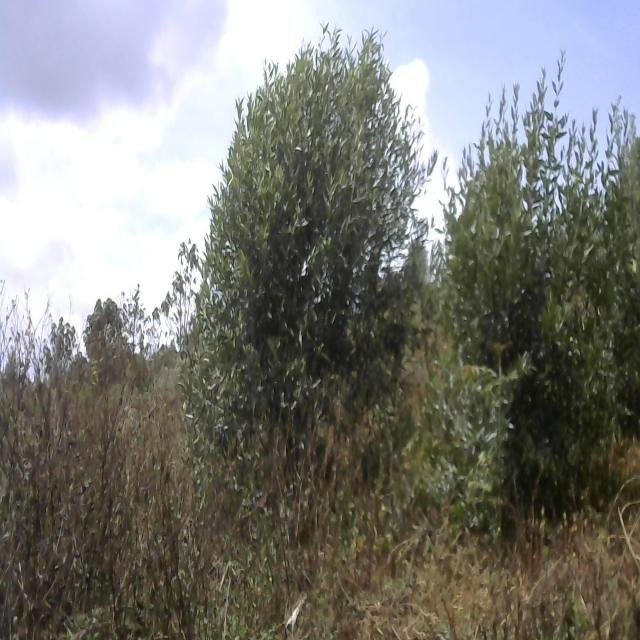other: (191, 25, 433, 480), (444, 33, 636, 514)
